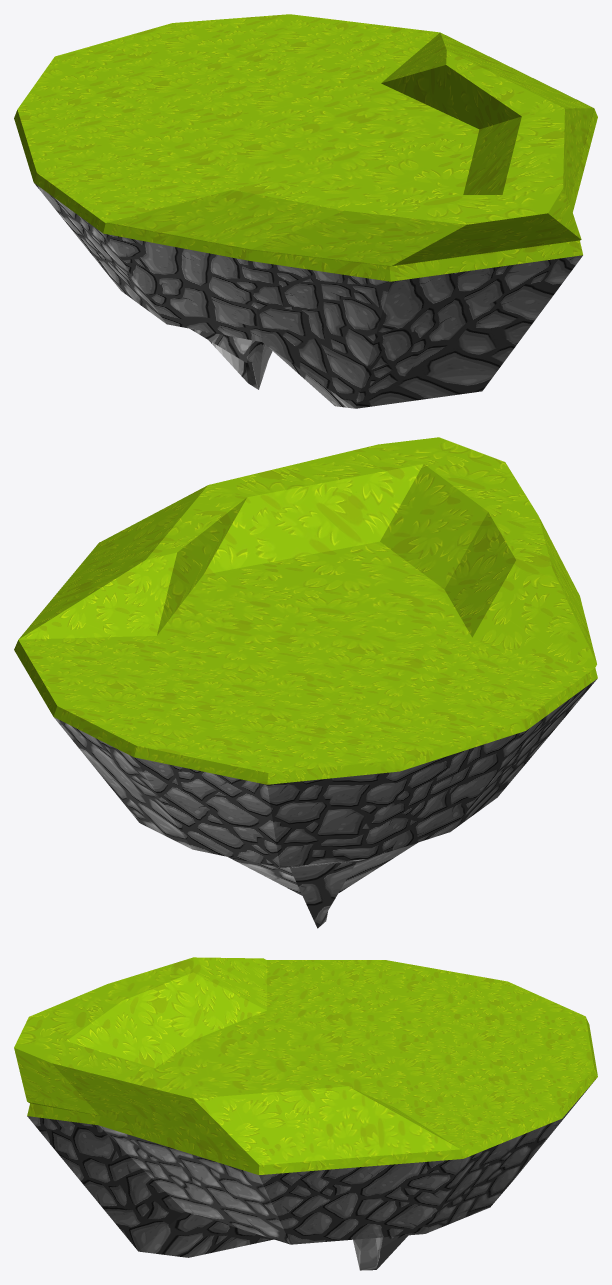
Rendered from IslaPequeña1.glb.
The picture shows the model from 3 angles, top to bottom: view 1: azimuth 30°, elevation 25°; view 2: azimuth 150°, elevation 25°; view 3: azimuth 270°, elevation 25°; orthographic projection. The views are drawn at different scales.
Visible parts, largest first — view 1: Plane.001; view 2: Plane.001; view 3: Plane.001.
Boxes of the visible parts, x1,y1,x2,y2 form: Plane.001: [14, 14, 597, 408]; Plane.001: [14, 437, 597, 928]; Plane.001: [14, 957, 597, 1270].
Bounding box in the file's own units: 8.24 × 4.83 × 9.79.
Materials: 2 (2 with a texture image).
